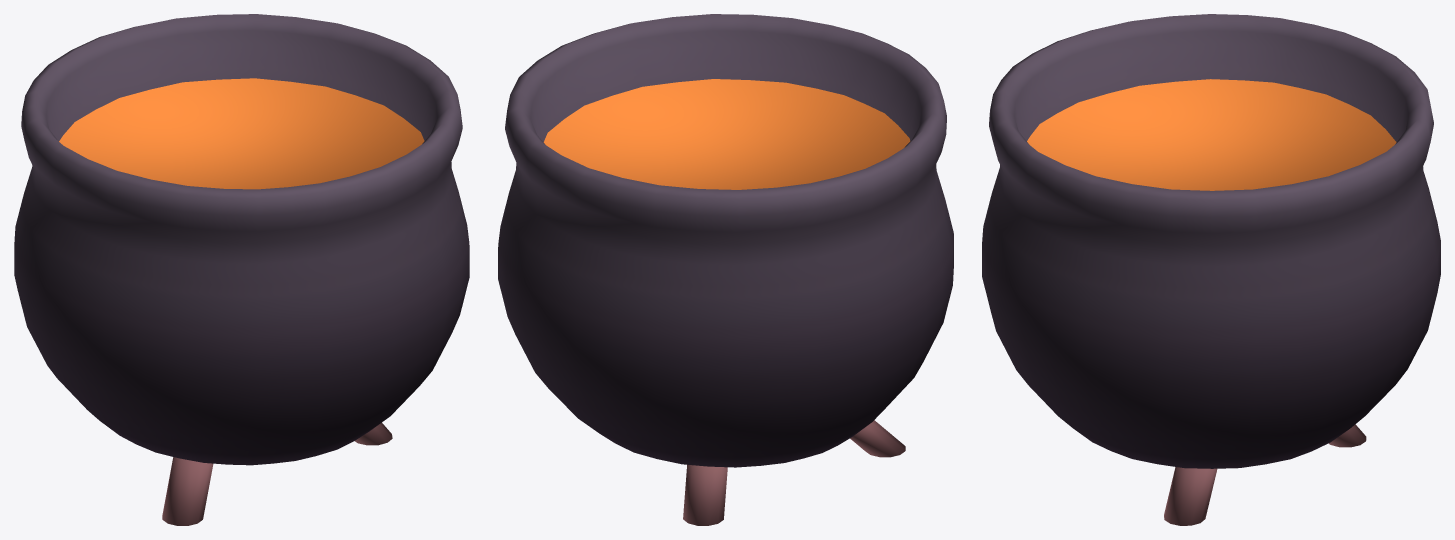
Rendered from cauldron.glb.
3 renders of one model, left to right at view 1: azimuth 30°, elevation 25°; view 2: azimuth 150°, elevation 25°; view 3: azimuth 270°, elevation 25°, orthographic.
Parts seen in each view (by area): view 1: cauldron; view 2: cauldron; view 3: cauldron.
Part boxes in pixels (left/top/right/bottom): cauldron: left=14, top=14, right=469, bottom=525; cauldron: left=498, top=14, right=953, bottom=525; cauldron: left=982, top=14, right=1440, bottom=525.
Size of the model in its own units: 0.5195 by 0.4463 by 0.5193.
Materials: 1 (1 with a texture image).
